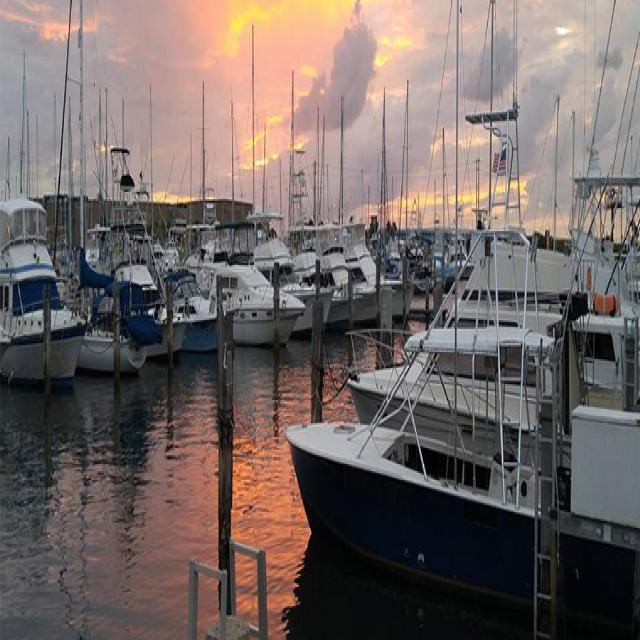houseboat: (272, 327, 558, 607), (1, 206, 76, 391), (190, 215, 280, 342), (78, 230, 154, 351), (163, 228, 221, 358)
